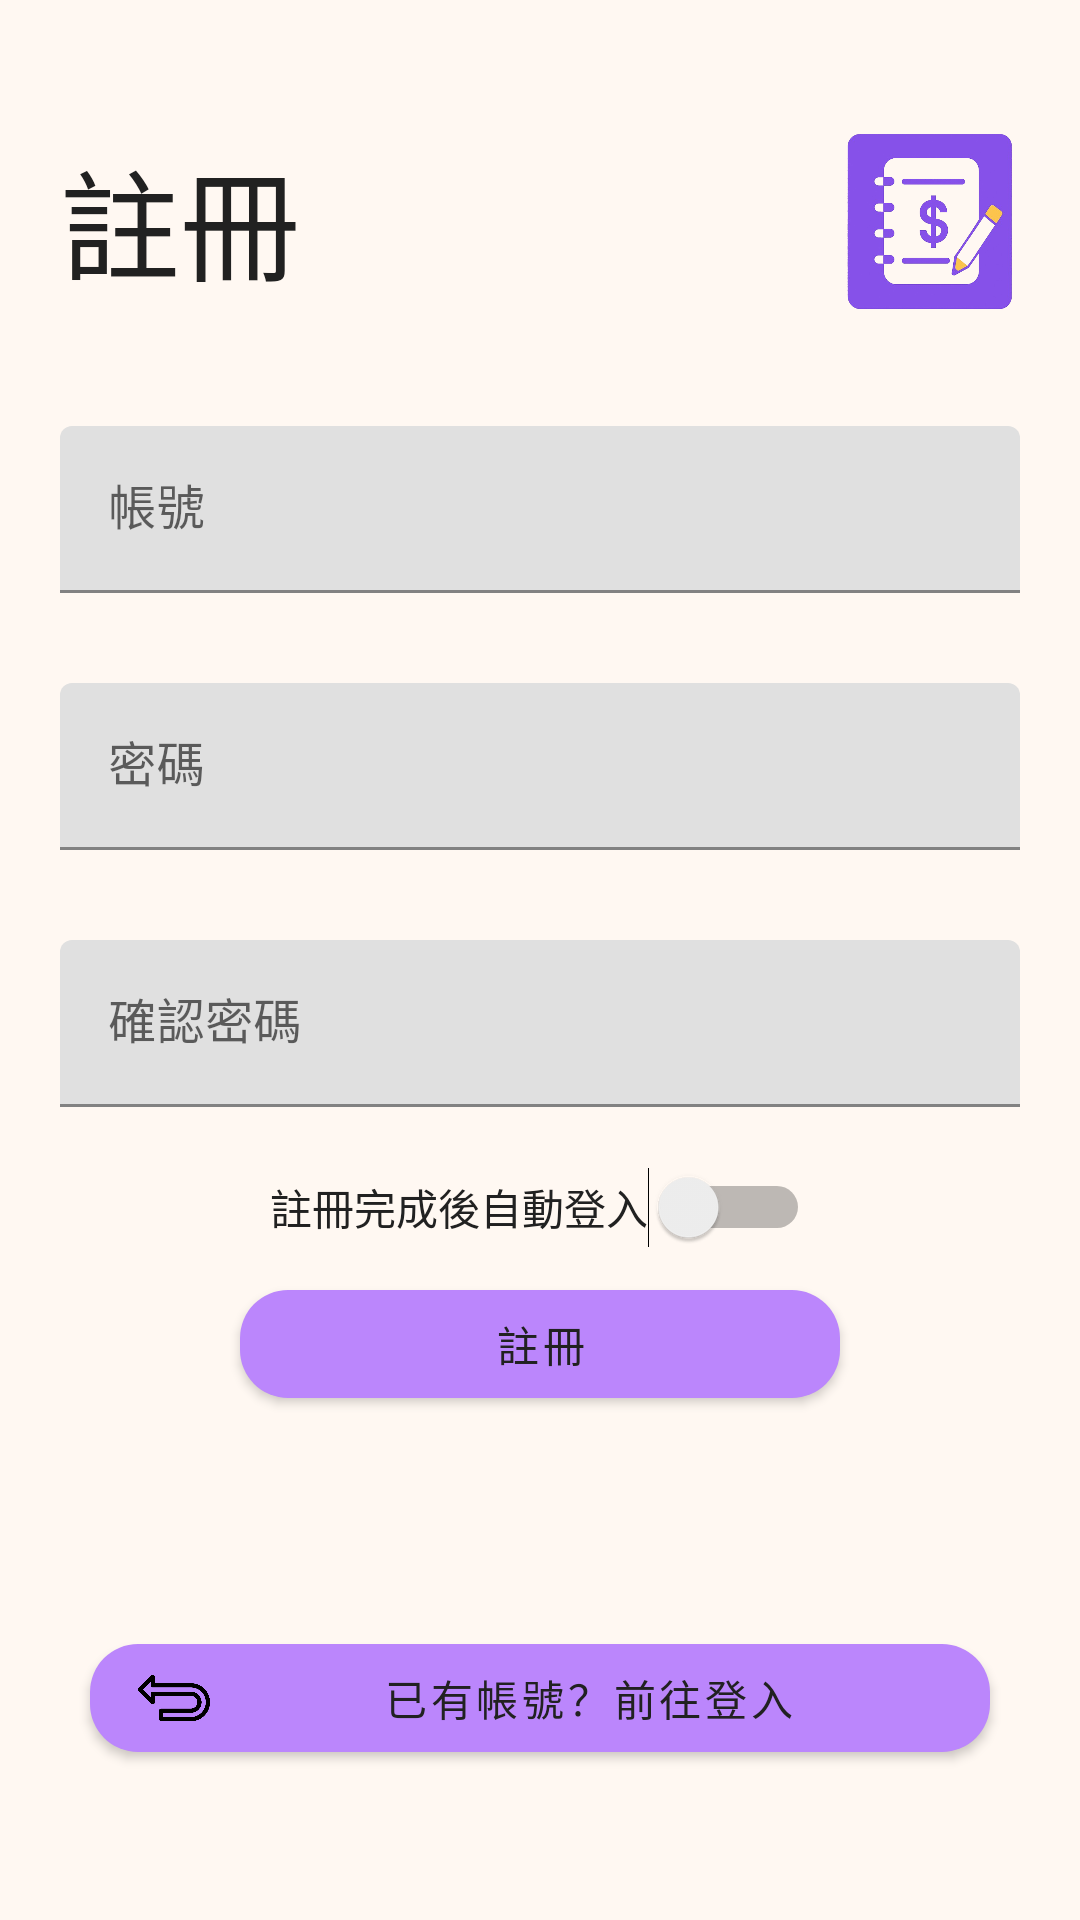

Icon bounding boxes for this 1080 × 1920 phone screenshot, format rect(x1, y1, x2, y2):
app: rect(847, 134, 1012, 309)
